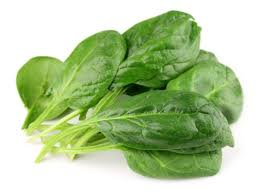spinach: (39, 16, 238, 164)
